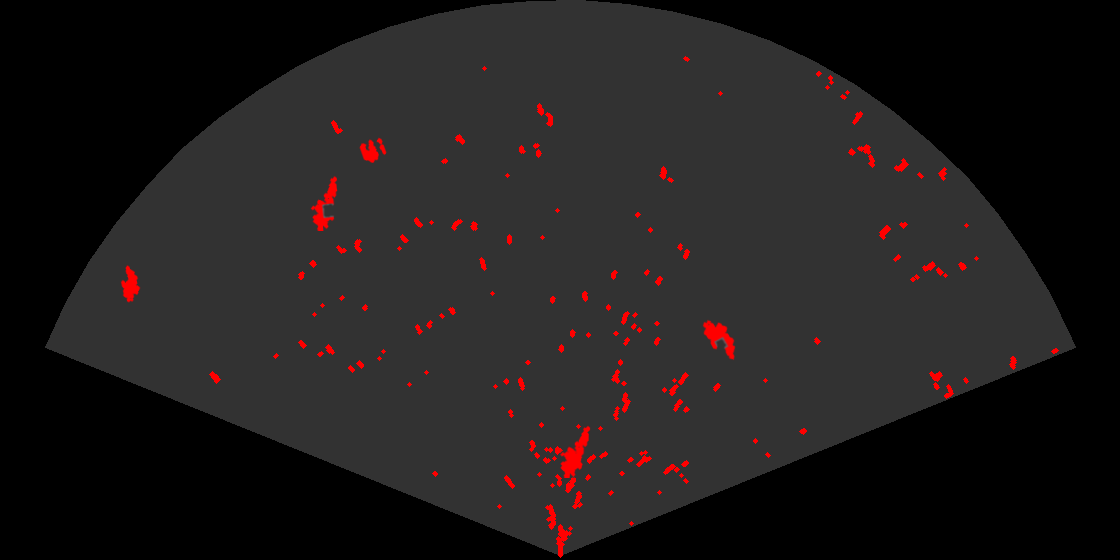AUV: (701, 318, 737, 362), (119, 263, 142, 304)
ball: (358, 136, 388, 165)
frogman: (558, 424, 592, 478), (309, 174, 339, 231)
